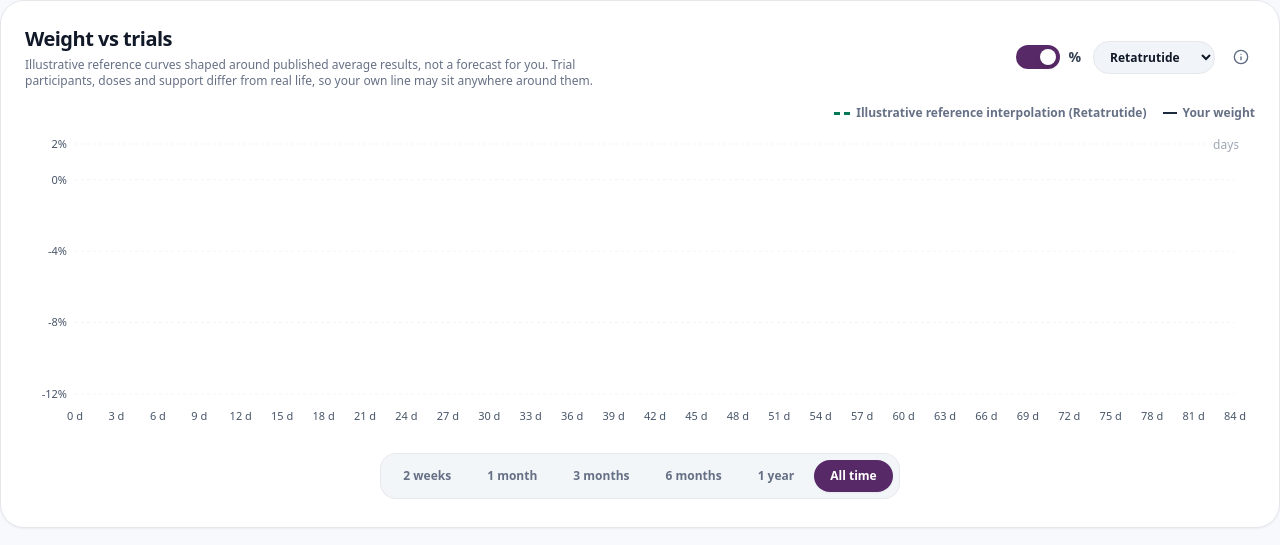
it: RV07: the reference line is labelled as an illustration › switching drug keeps the label and does not draw a range band
The width and height of the screenshot is (1280, 545).
Select "Tirzepatide" in the dropdown named "reference trial" at (1154, 57), box [1093,40,1215,74]
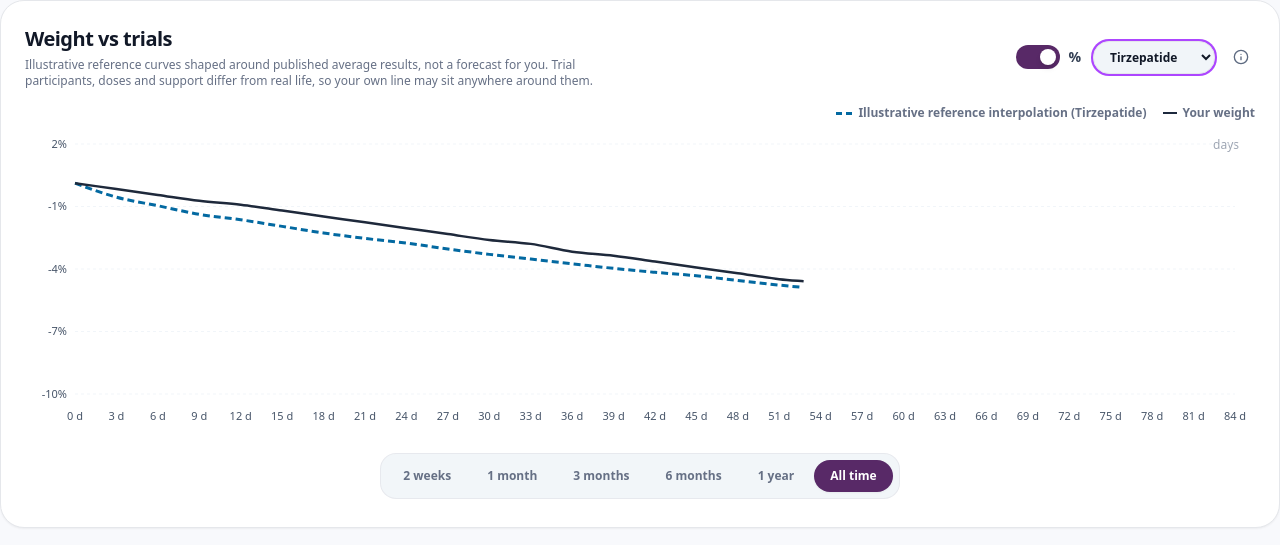
Expected: the text "Illustrative reference interpolation (Tirzepatide)" is shown, [858,105,1146,121]
